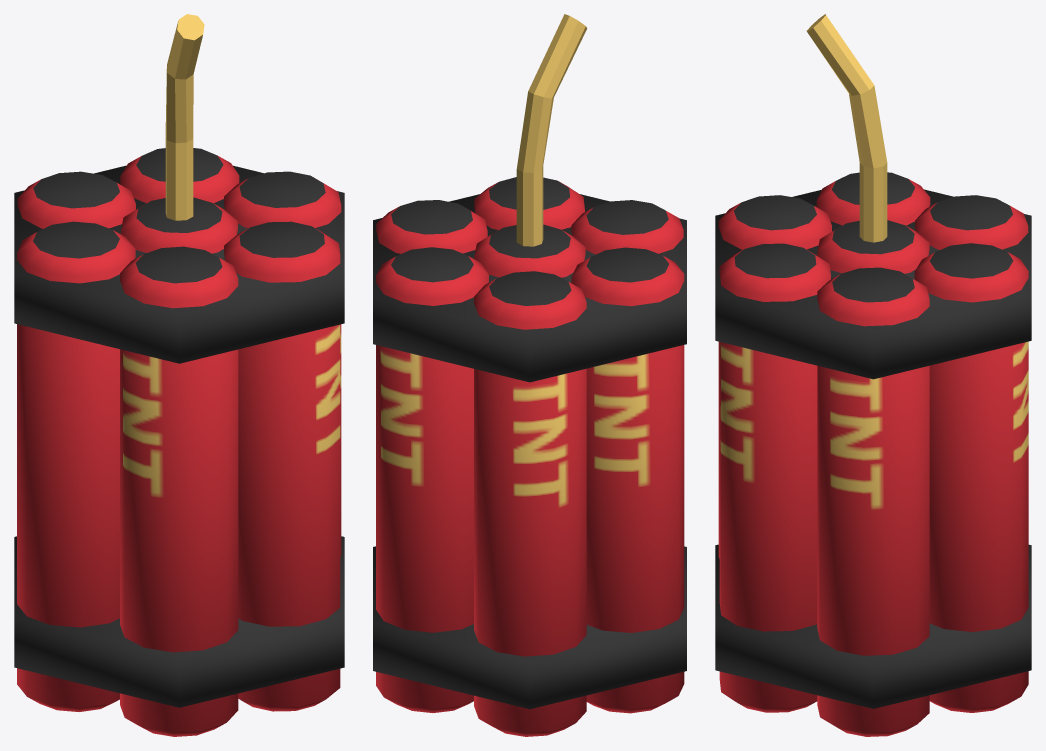
File: dynamite.fbx
3 views of the same model, side by side, from view 1: azimuth 30°, elevation 25°; view 2: azimuth 150°, elevation 25°; view 3: azimuth 270°, elevation 25° (orthographic). The views are drawn at different scales.
Visible parts, largest first — view 1: Cylinder.006, Cylinder.002, Cylinder.005, Cylinder.008, Cylinder.007, Cylinder.009, Cylinder.001, Cylinder.004, Cylinder, Cylinder.003; view 2: Cylinder.004, Cylinder.002, Cylinder.003, Cylinder.008, Cylinder.007, Cylinder.009, Cylinder.006, Cylinder.001, Cylinder, Cylinder.005; view 3: Cylinder.001, Cylinder.003, Cylinder.005, Cylinder.008, Cylinder.007, Cylinder.009, Cylinder.006, Cylinder.004, Cylinder, Cylinder.002.
Boxes of the visible parts, x1=… form: Cylinder.006: x1=120, y1=246, x2=238, y2=736; Cylinder.002: x1=17, y1=221, x2=135, y2=711; Cylinder.005: x1=224, y1=221, x2=340, y2=711; Cylinder.008: x1=14, y1=165, x2=344, y2=363; Cylinder.007: x1=14, y1=536, x2=344, y2=707; Cylinder.009: x1=165, y1=14, x2=204, y2=220; Cylinder.001: x1=224, y1=171, x2=341, y2=556; Cylinder.004: x1=17, y1=171, x2=135, y2=228; Cylinder: x1=121, y1=197, x2=237, y2=253; Cylinder.003: x1=120, y1=148, x2=239, y2=203; Cylinder.004: x1=474, y1=271, x2=586, y2=736; Cylinder.002: x1=571, y1=247, x2=684, y2=713; Cylinder.003: x1=376, y1=247, x2=488, y2=712; Cylinder.008: x1=373, y1=194, x2=686, y2=382; Cylinder.007: x1=373, y1=546, x2=686, y2=709; Cylinder.009: x1=516, y1=14, x2=587, y2=246; Cylinder.006: x1=571, y1=200, x2=683, y2=254; Cylinder.001: x1=376, y1=200, x2=487, y2=253; Cylinder: x1=474, y1=224, x2=585, y2=277; Cylinder.005: x1=474, y1=177, x2=584, y2=229; Cylinder.001: x1=817, y1=267, x2=929, y2=736; Cylinder.003: x1=914, y1=243, x2=1028, y2=712; Cylinder.005: x1=719, y1=243, x2=830, y2=712; Cylinder.008: x1=715, y1=189, x2=1031, y2=379; Cylinder.007: x1=715, y1=544, x2=1031, y2=708; Cylinder.009: x1=806, y1=14, x2=887, y2=242; Cylinder.006: x1=718, y1=195, x2=831, y2=558; Cylinder.004: x1=915, y1=195, x2=1028, y2=249; Cylinder: x1=817, y1=220, x2=929, y2=273; Cylinder.002: x1=816, y1=172, x2=930, y2=225.
Size of the model in its own units: 160 by 314 by 139.
